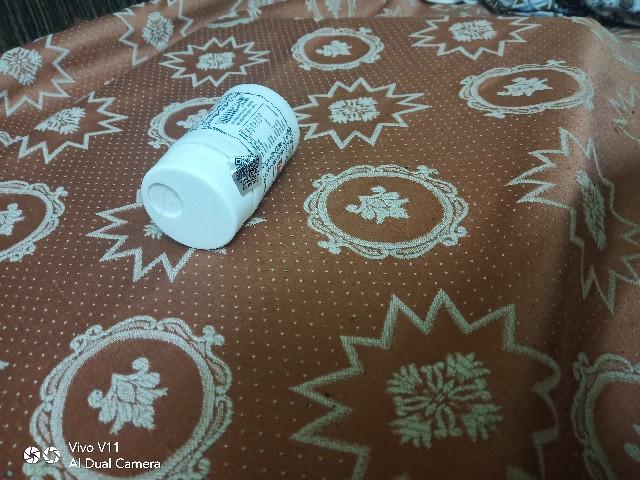lgasafoetidapowder small: (124, 72, 312, 273)
